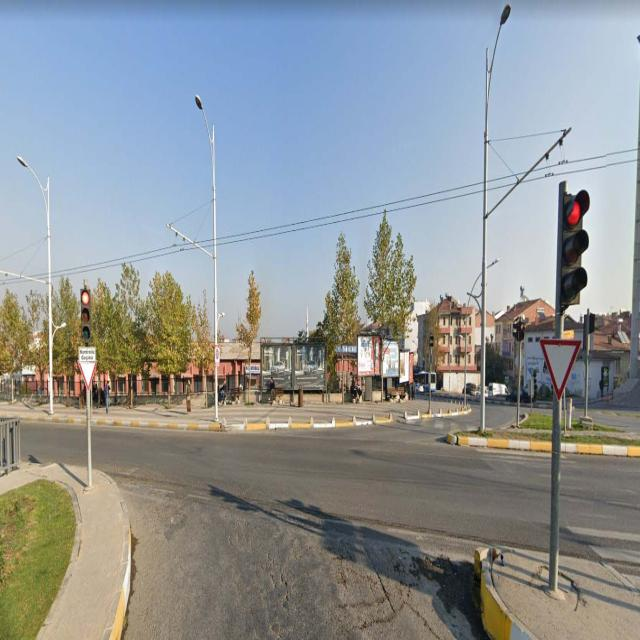kirmizi: (561, 181, 586, 306), (80, 283, 91, 344)
